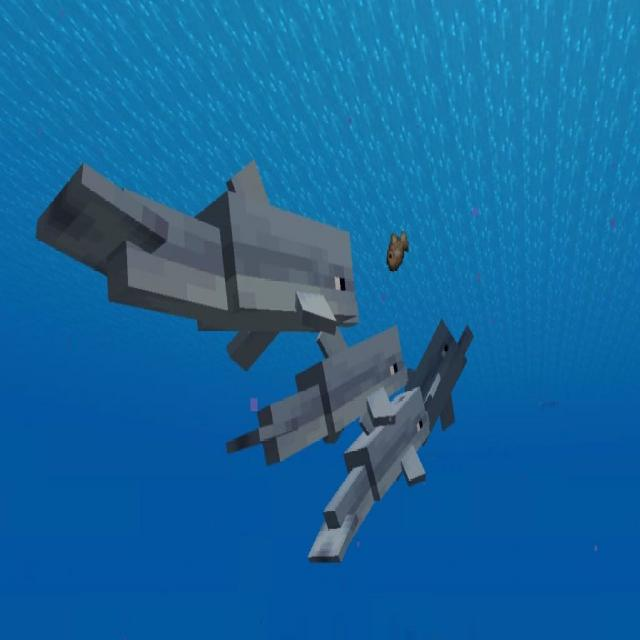Dolphin: (32, 154, 366, 369), (221, 312, 418, 472), (312, 390, 433, 570)
